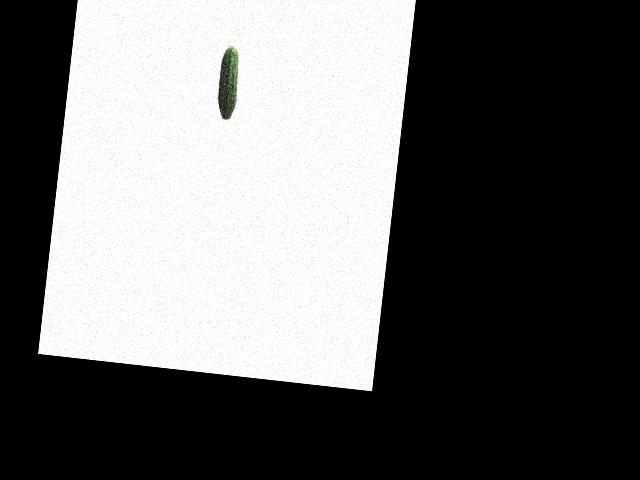cucumber: (215, 45, 241, 121)
